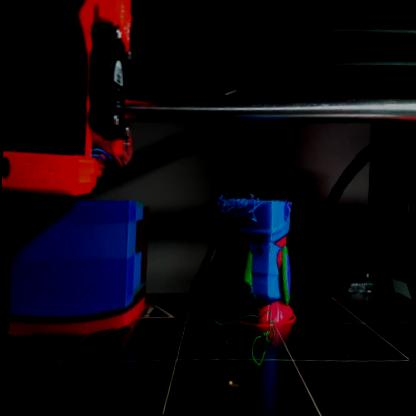fail: (214, 194, 260, 230), (251, 320, 274, 368)
